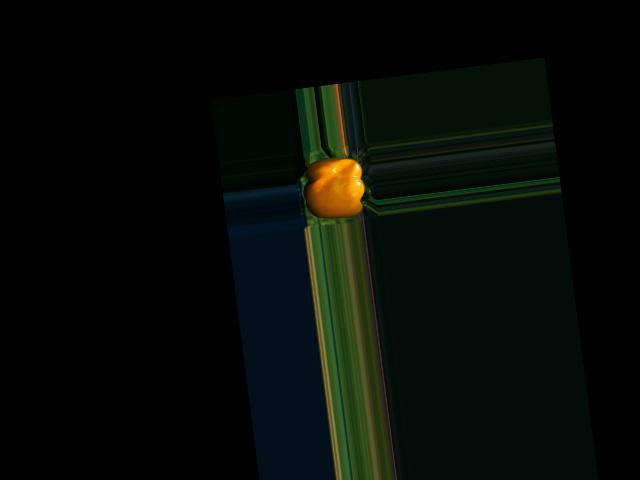bell_pepper: (298, 148, 374, 226)
